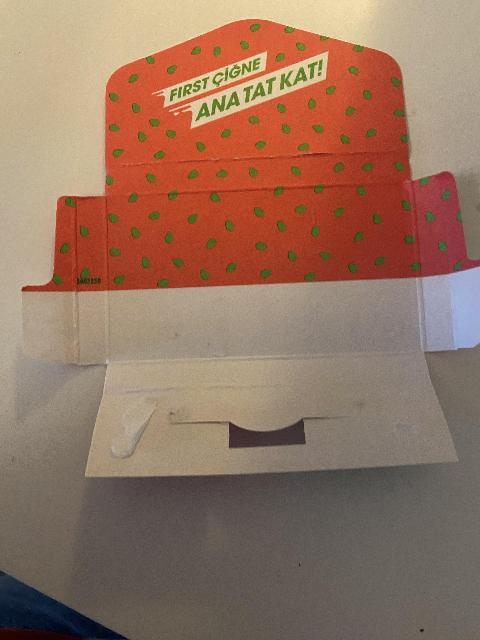Kagit: (22, 19, 480, 480)
